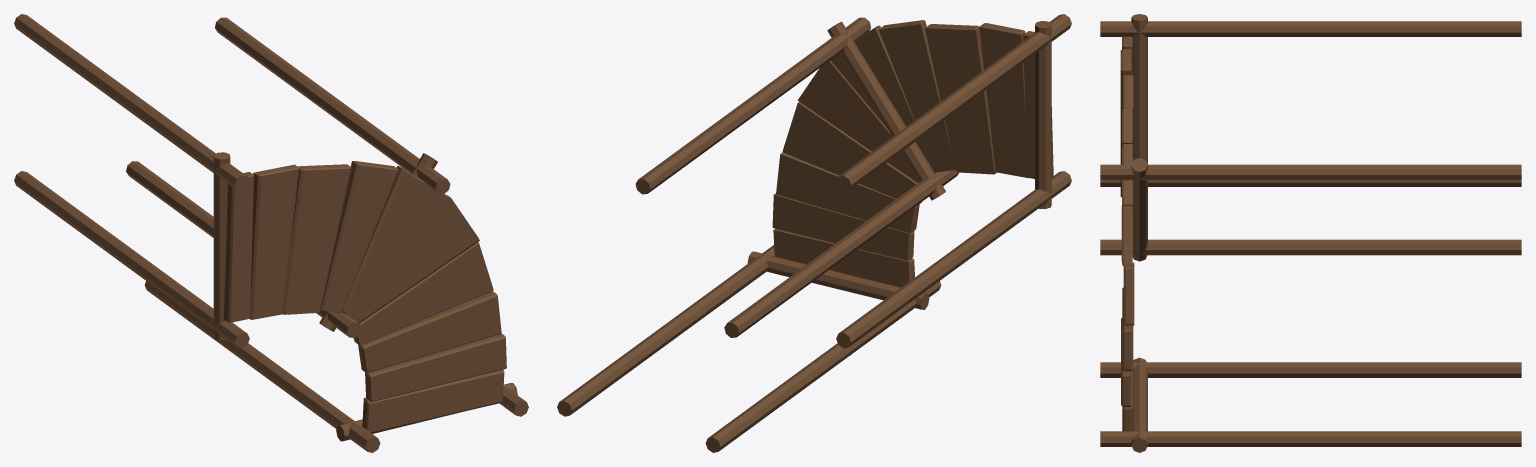
The model's file is Dock_03_Angle.fbx.
3 renders of one model, left to right at view 1: azimuth 30°, elevation 25°; view 2: azimuth 150°, elevation 25°; view 3: azimuth 270°, elevation 25°, orthographic. The views are drawn at different scales.
Parts seen in each view (by area): view 1: ponton_3.angle; view 2: ponton_3.angle; view 3: ponton_3.angle.
Boxes of the visible parts, x1=… form: ponton_3.angle: x1=14, y1=14, x2=528, y2=452; ponton_3.angle: x1=557, y1=14, x2=1071, y2=452; ponton_3.angle: x1=1100, y1=14, x2=1521, y2=452.
Size of the model in its own units: 217 by 218 by 278.
